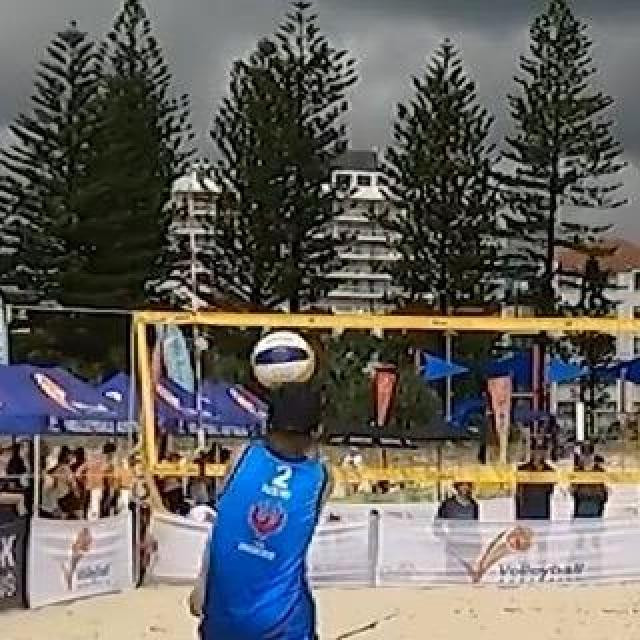volleyball: (251, 328, 313, 386)
